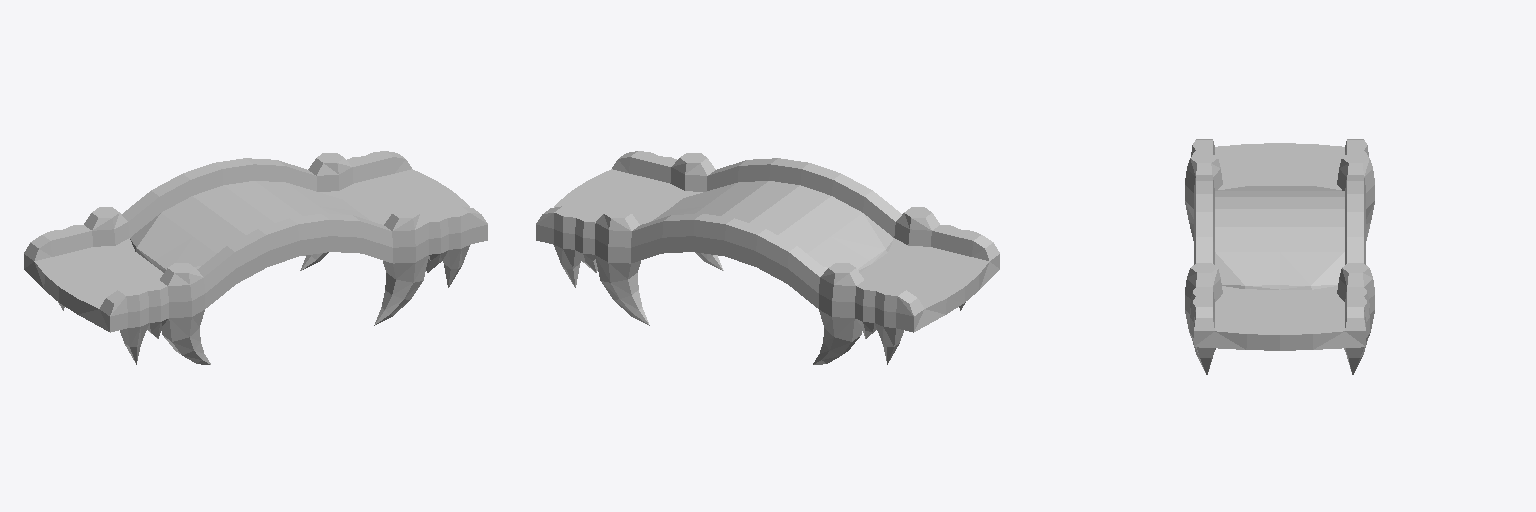
File: stone_bridge_lava.obj
3 renders of one model, left to right at view 1: azimuth 30°, elevation 25°; view 2: azimuth 150°, elevation 25°; view 3: azimuth 270°, elevation 25°, orthographic.
Visible parts, largest first — view 1: stone_bridge_lava; view 2: stone_bridge_lava; view 3: stone_bridge_lava.
Part boxes in pixels (x1,y1,x2,y2): stone_bridge_lava: (24,151,487,364); stone_bridge_lava: (536,151,999,364); stone_bridge_lava: (1185,139,1374,374).
Bounding box in the file's own units: 1064 × 323 × 447.